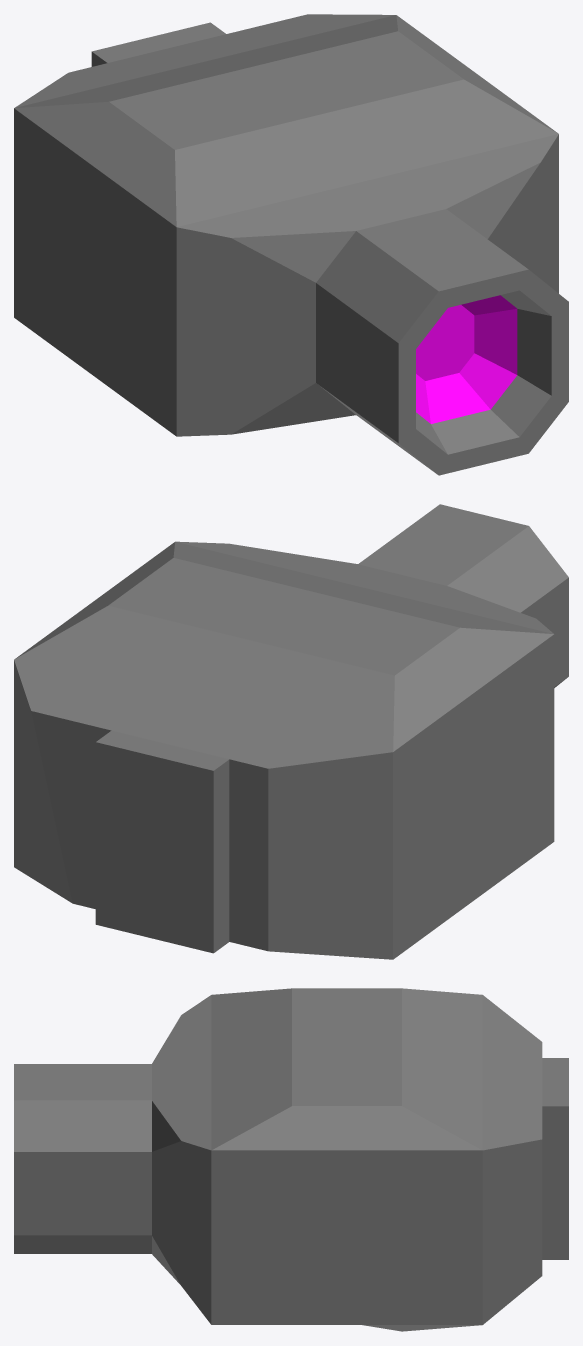
The model's file is WristShot.fbx.
3 renders of one model, top to bottom at view 1: azimuth 30°, elevation 25°; view 2: azimuth 150°, elevation 25°; view 3: azimuth 270°, elevation 25°, orthographic. The views are drawn at different scales.
Parts seen in each view (by area): view 1: WristShot; view 2: WristShot; view 3: WristShot.
Part boxes in pixels (x1=…): WristShot: x1=14, y1=14, x2=568, y2=475; WristShot: x1=14, y1=504, x2=568, y2=959; WristShot: x1=14, y1=988, x2=568, y2=1331.
Size of the model in its own units: 81 by 122 by 54.72.
